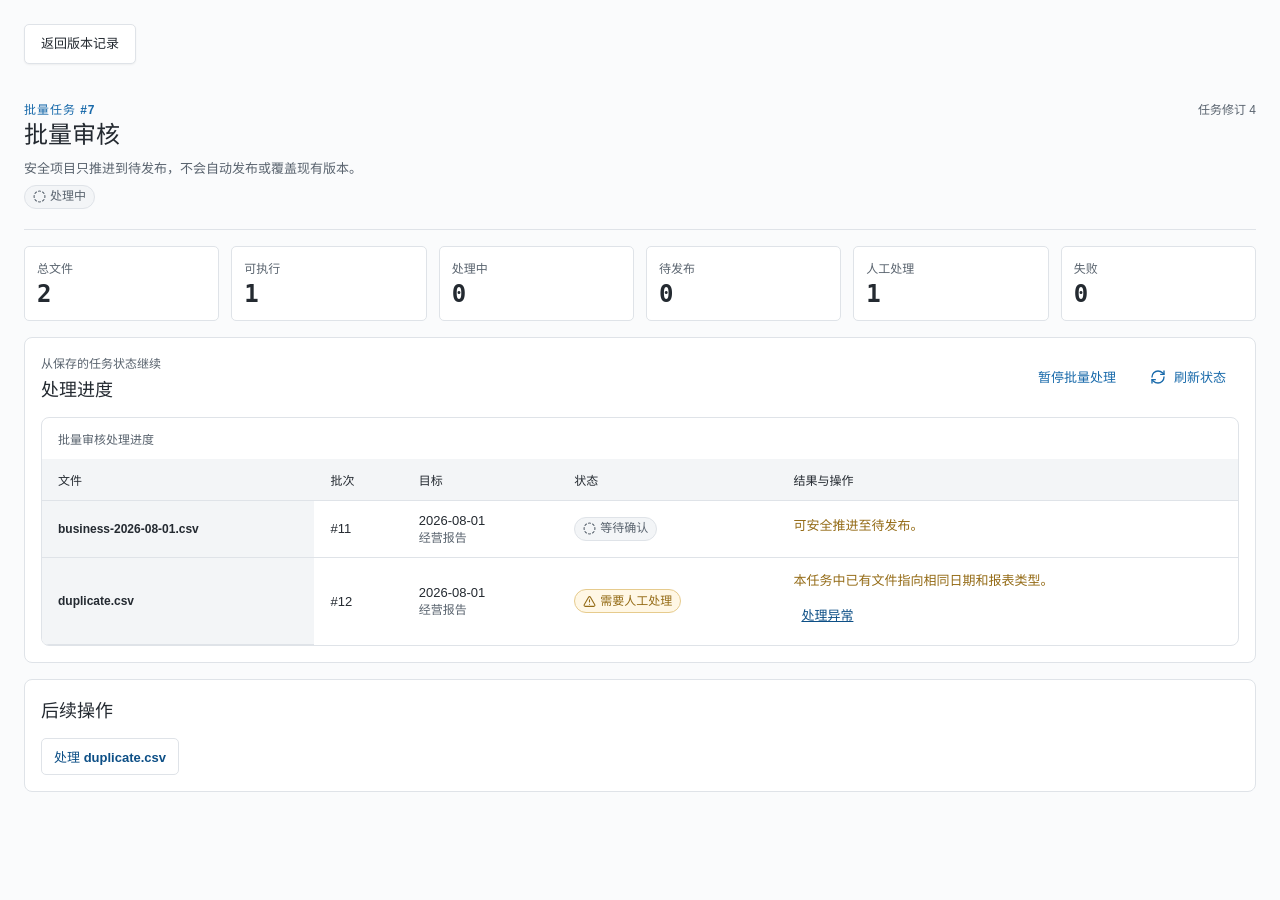
Test case: BatchReviewPage › drains active work before resuming and ignores the stopped pass snapshot
What coordinates should you click on to do the following:
click the button "暂停批量处理"
I would click on:
 (1077, 377)
Its box is [1025,359,1129,395].
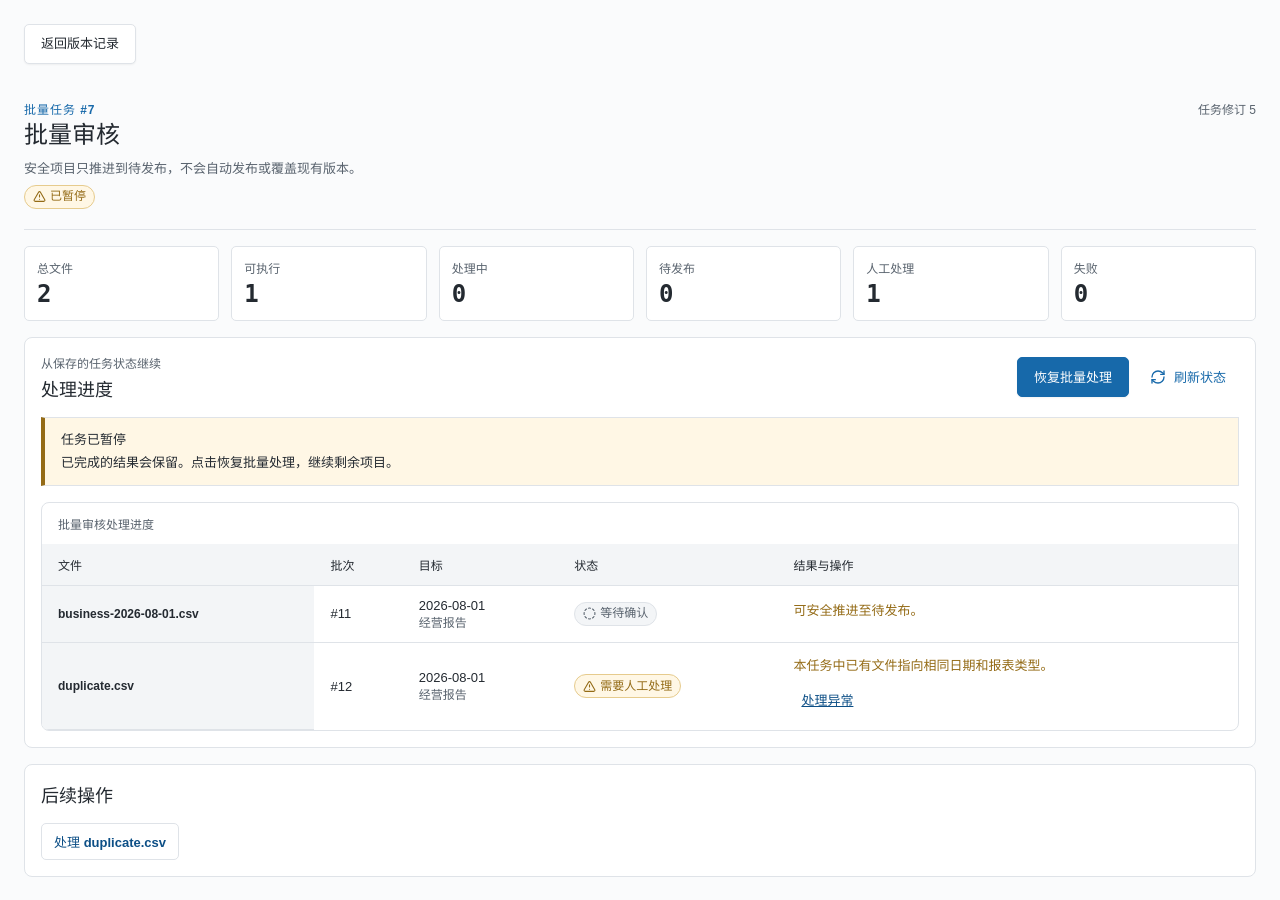
What coordinates should you click on to do the following:
click the button "恢复批量处理"
I would click on:
 (1073, 377)
Its box is [1017,357,1129,397].
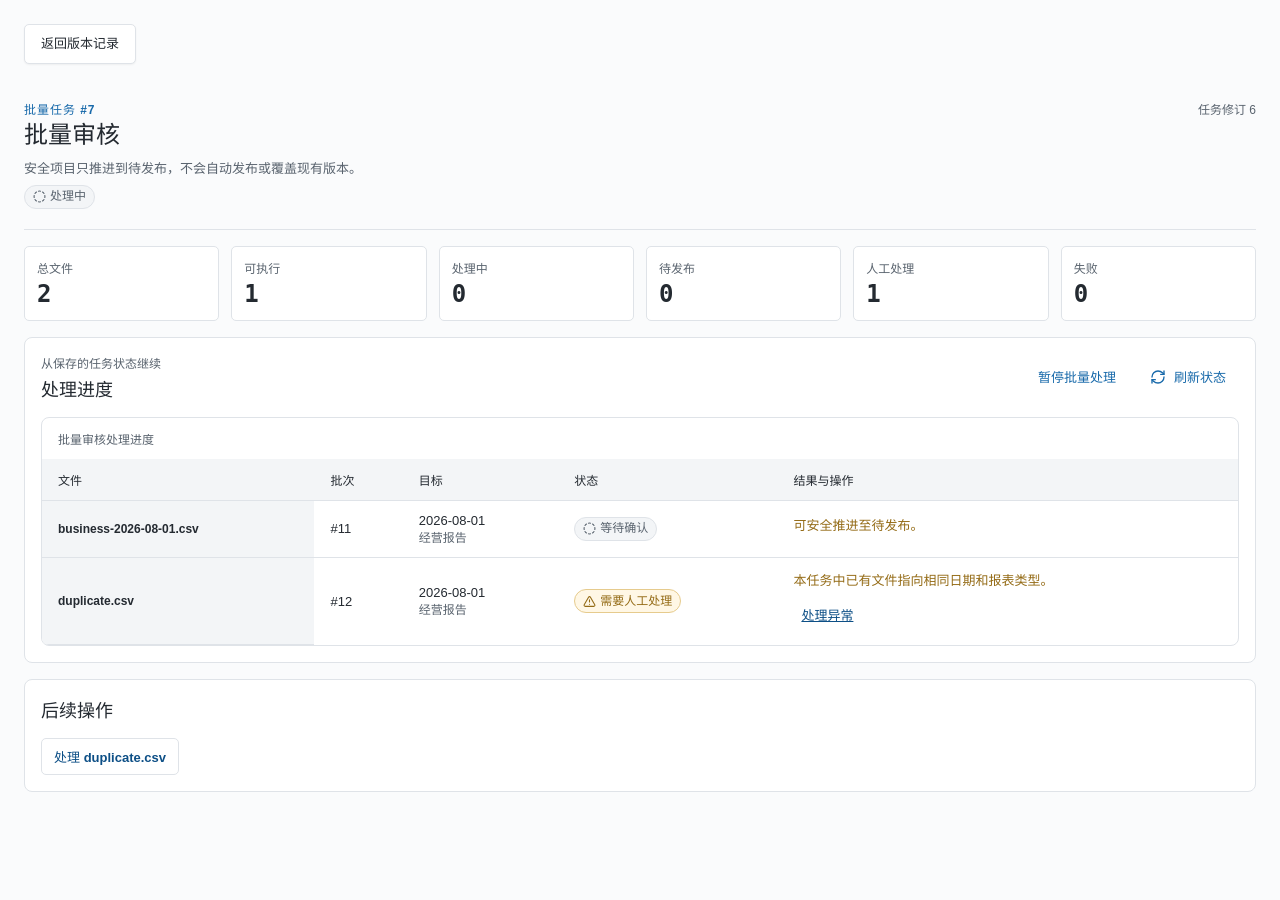
Check: the button "暂停批量处理" is shown, box [1025,359,1129,395]
